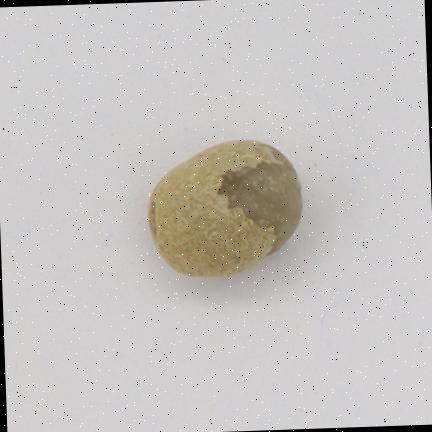immature: (149, 140, 302, 275)
